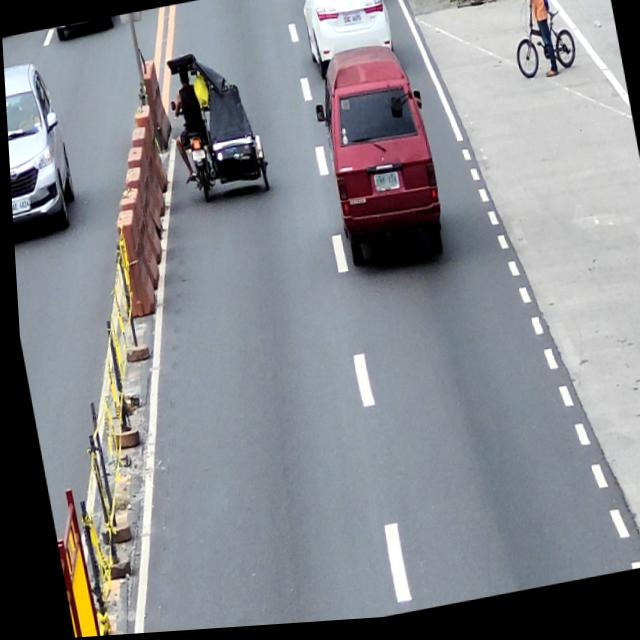Bicycle: (504, 0, 579, 92)
Car: (304, 41, 448, 277), (3, 57, 79, 244), (293, 0, 397, 85)
License-Plate: (370, 175, 397, 197), (9, 197, 29, 213), (342, 16, 362, 31), (188, 151, 204, 164)
Tricycle: (160, 45, 271, 209)
